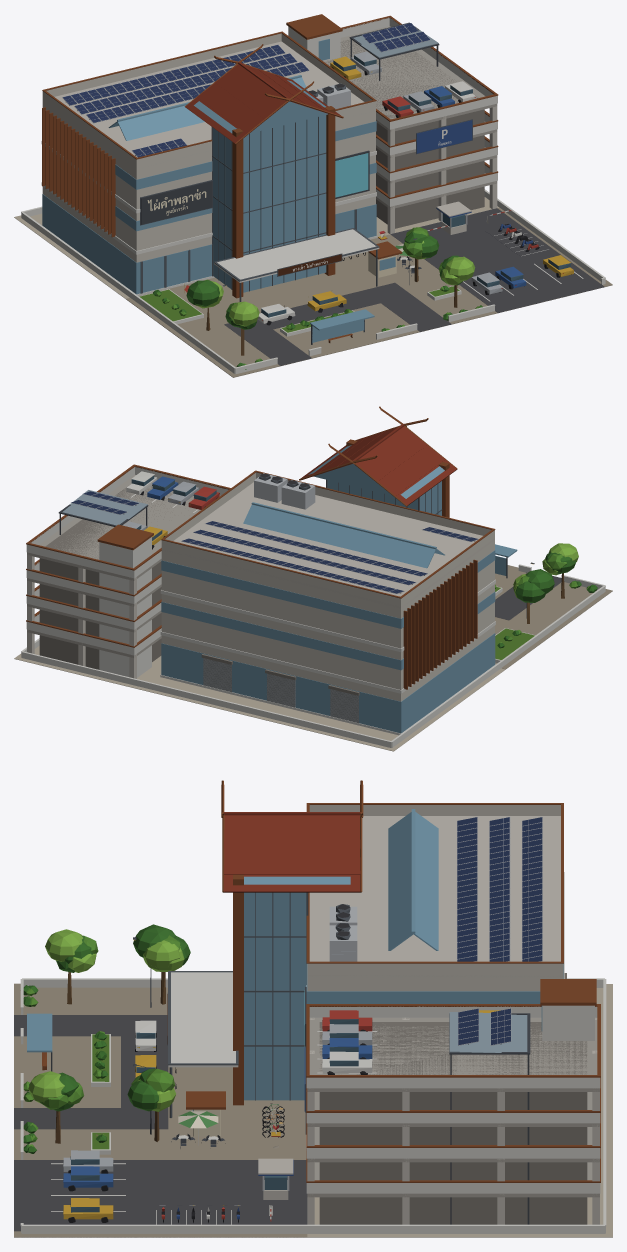
Rendered from store.glb.
3 renders of one model, top to bottom at view 1: azimuth 30°, elevation 25°; view 2: azimuth 150°, elevation 25°; view 3: azimuth 270°, elevation 25°, orthographic. The views are drawn at different scales.
Parts seen in each view (by area): view 1: body, windows; view 2: body, windows; view 3: body, windows.
Boxes of the visible parts, x1=… form: body: x1=14, y1=14, x2=612, y2=377; windows: x1=147, y1=55, x2=570, y2=320; body: x1=14, y1=406, x2=612, y2=751; windows: x1=131, y1=475, x2=533, y2=564; body: x1=14, y1=780, x2=612, y2=1237; windows: x1=70, y1=939, x2=358, y2=1212.
Bounding box in the file's own units: 47.9 × 24.51 × 47.9.
